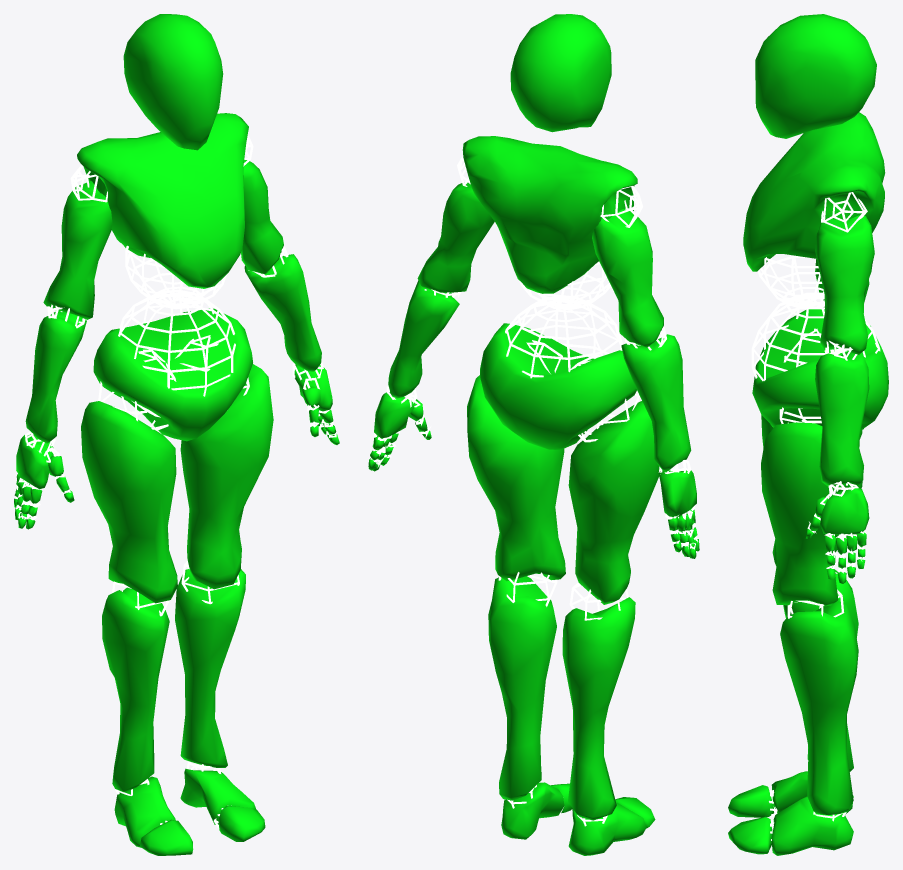
Rendered from spawn-point.glb.
The picture shows the model from 3 angles, left to right: view 1: azimuth 30°, elevation 25°; view 2: azimuth 150°, elevation 25°; view 3: azimuth 270°, elevation 25°; orthographic projection. The views are drawn at different scales.
Parts seen in each view (by area): view 1: spawn-point; view 2: spawn-point; view 3: spawn-point.
Part boxes in pixels (bbox=[...]): spawn-point: bbox=[14, 14, 339, 855]; spawn-point: bbox=[368, 14, 699, 855]; spawn-point: bbox=[728, 14, 888, 855].
Bounding box in the file's own units: 0.7382 × 1.79 × 0.3213.
